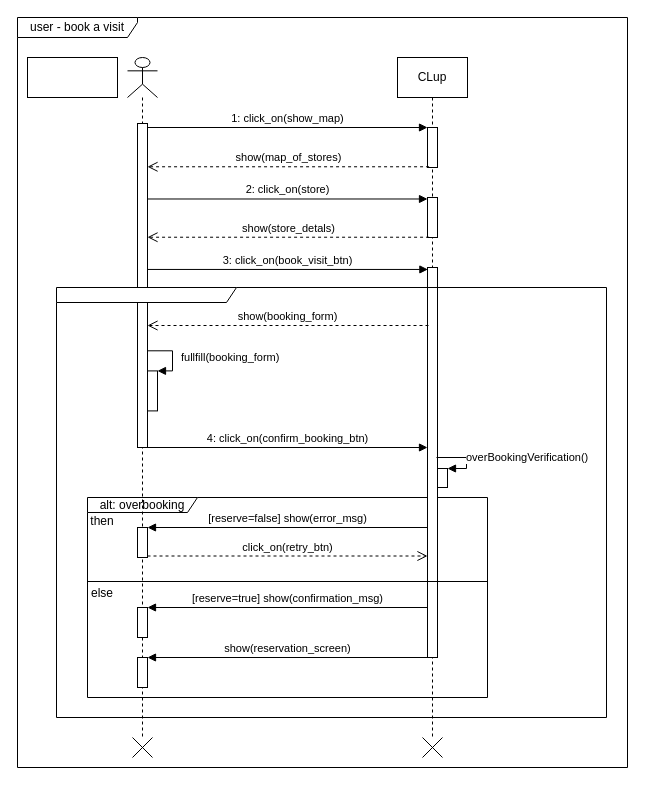
Some shapes in this 645 by 785 pixel diagram are drawn without their labels. Each missing label, with the centre of its shape:
"loop: while [reserve== false]" belongs at (x=331, y=502).
"user already logged in" belongs at (x=72, y=77).
